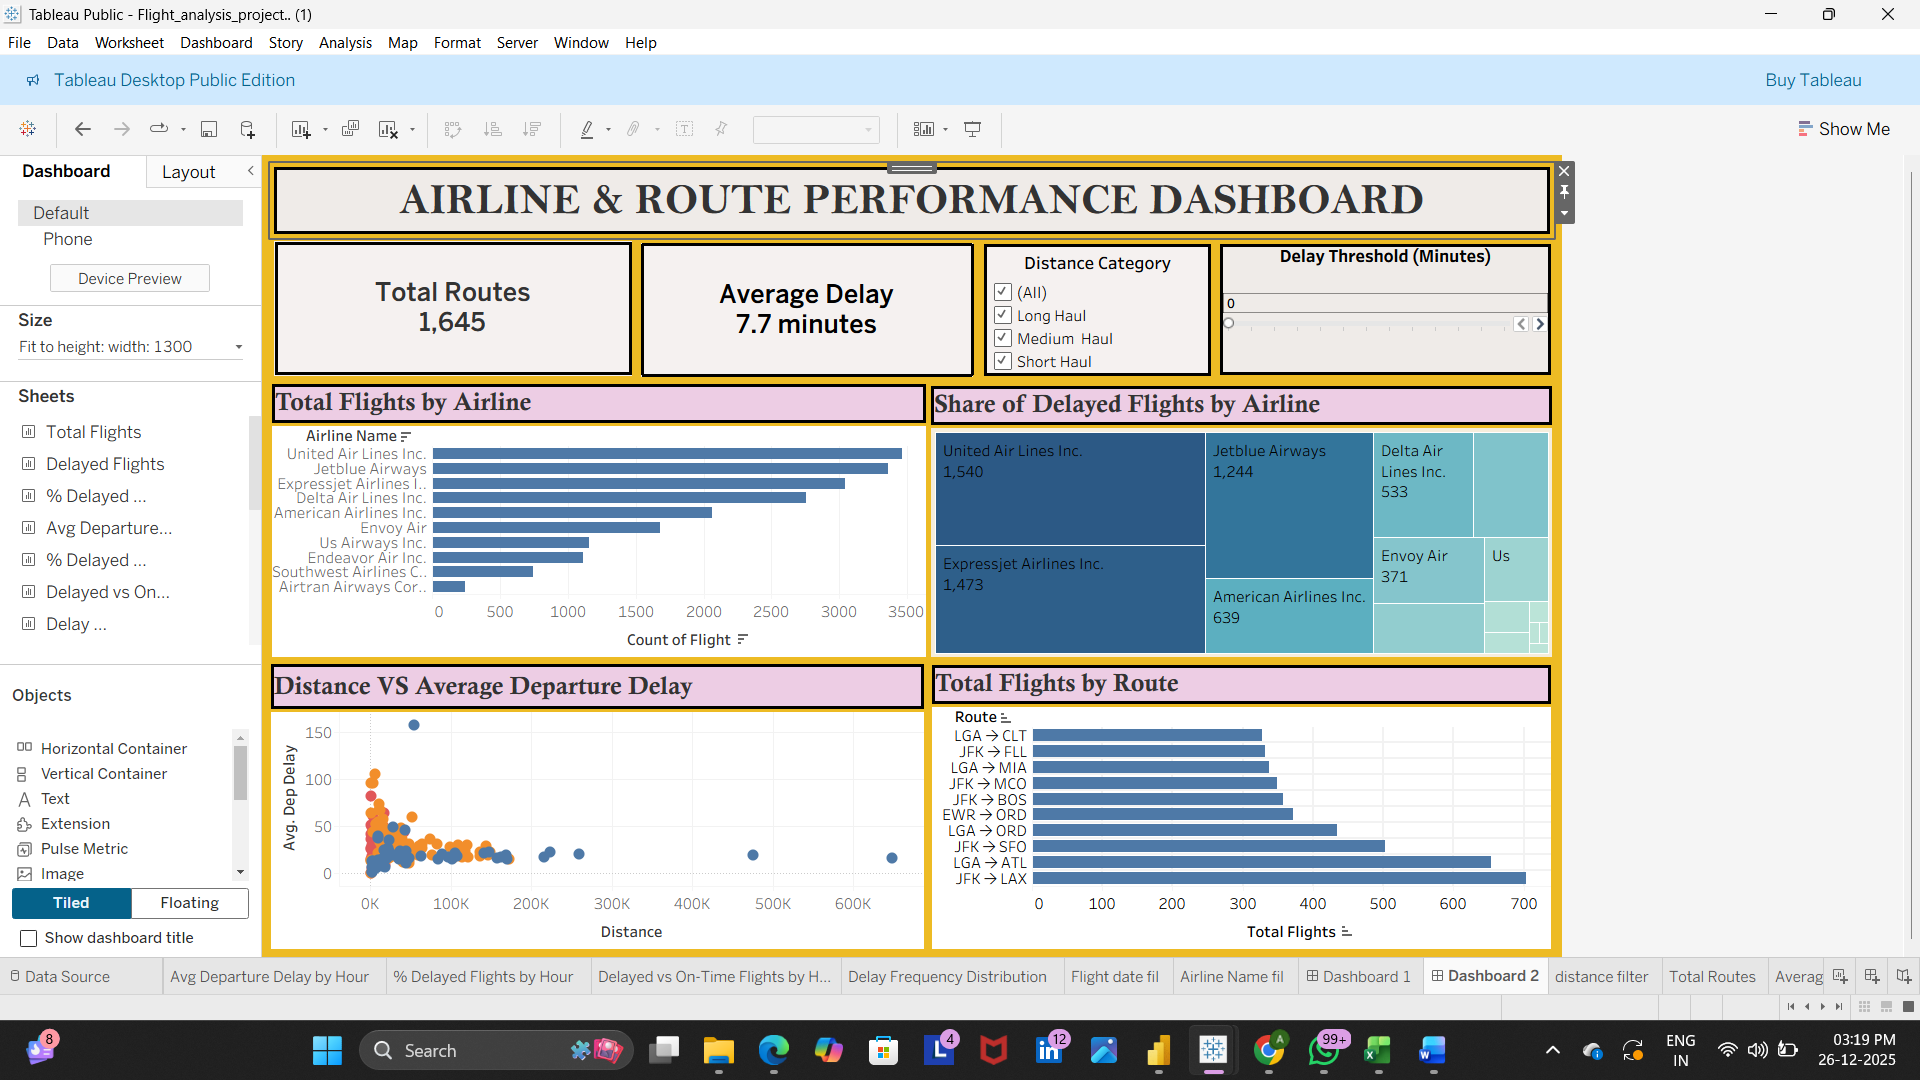

The page's visual inventory and layout, read from the dashboard file:
{"tool":"tableau","page":{"name":"Dashboard 2","canvas":[1000,1000],"units":"permille","ordinal":1},"visuals":[{"type":"title","box":[6.2,10,987.7,93.5]},{"type":"worksheet","title":"distance filter","mark":"Automatic","box":[47.7,98.8,333.1,310.5]},{"type":"worksheet","title":"Total Routes","mark":"Automatic","box":[9.2,107.2,276.2,168.3]},{"type":"worksheet","title":"Average Departure Delay","mark":"Automatic","box":[291.5,109.7,256.1,167.1]},{"type":"filter","title":"distance filter","param":"[federated.08lciuz1svrqzo193fpnf0v0h9go].[none:distance_category:nk]","box":[555.4,111,174.6,164.6]},{"type":"parameter","param":"[Parameters].[Parameter 1]","box":[736.9,111,254.6,163.3]},{"type":"worksheet","title":"Total Flights by Airline","mark":"Bar","rows":["airline_name"],"cols":["flight"],"box":[7.7,285.5,503.1,340.4]},{"type":"worksheet","title":"Share of Delayed Flights by Airline","mark":"Automatic","box":[514.6,288,477.7,337.9]},{"type":"worksheet","title":"Distance vs Average Departure Delay","mark":"Circle","rows":["dep_delay"],"cols":["distance"],"box":[6.9,634.7,502.3,355.4]},{"type":"worksheet","title":"Total Flights by Route","mark":"Automatic","rows":["Calculation_1021741437202434"],"cols":["flight"],"box":[515.4,635.9,476.2,354.1]}]}

Visuals, with their boxes on the dashboard's canvas, which has no fixed pixel size, in thousandths of its width and height (x1, y1, x2, y2). These are canvas units, not pixel positions in the 1920x1080 screenshot, which may show the page scaled, cropped or inside an application window:
title: [left=6, top=10, right=994, bottom=104]
"distance filter" worksheet: [left=48, top=99, right=381, bottom=409]
"Total Routes" worksheet: [left=9, top=107, right=285, bottom=276]
"Average Departure Delay" worksheet: [left=292, top=110, right=548, bottom=277]
"distance filter" filter: [left=555, top=111, right=730, bottom=276]
parameter: [left=737, top=111, right=992, bottom=274]
"Total Flights by Airline" worksheet (Bar marks): [left=8, top=286, right=511, bottom=626]
"Share of Delayed Flights by Airline" worksheet: [left=515, top=288, right=992, bottom=626]
"Distance vs Average Departure Delay" worksheet (Circle marks): [left=7, top=635, right=509, bottom=990]
"Total Flights by Route" worksheet: [left=515, top=636, right=992, bottom=990]
